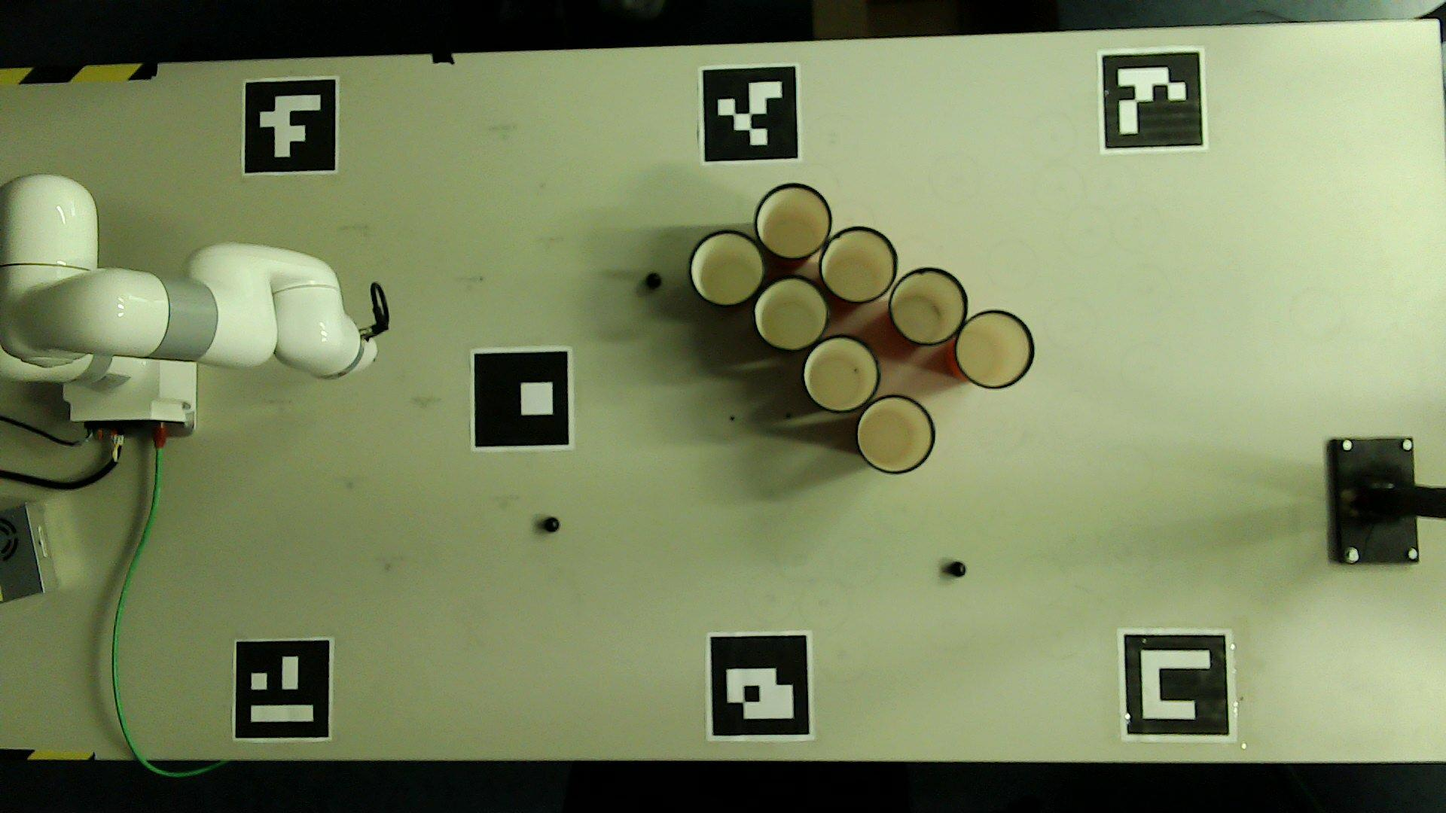ball: (950, 562, 966, 576), (647, 274, 661, 289), (545, 518, 559, 532)
cup: (856, 396, 934, 473), (803, 336, 879, 413), (689, 230, 765, 307), (820, 228, 896, 303), (890, 269, 966, 344), (956, 312, 1031, 388), (753, 277, 829, 351), (756, 184, 830, 258)
